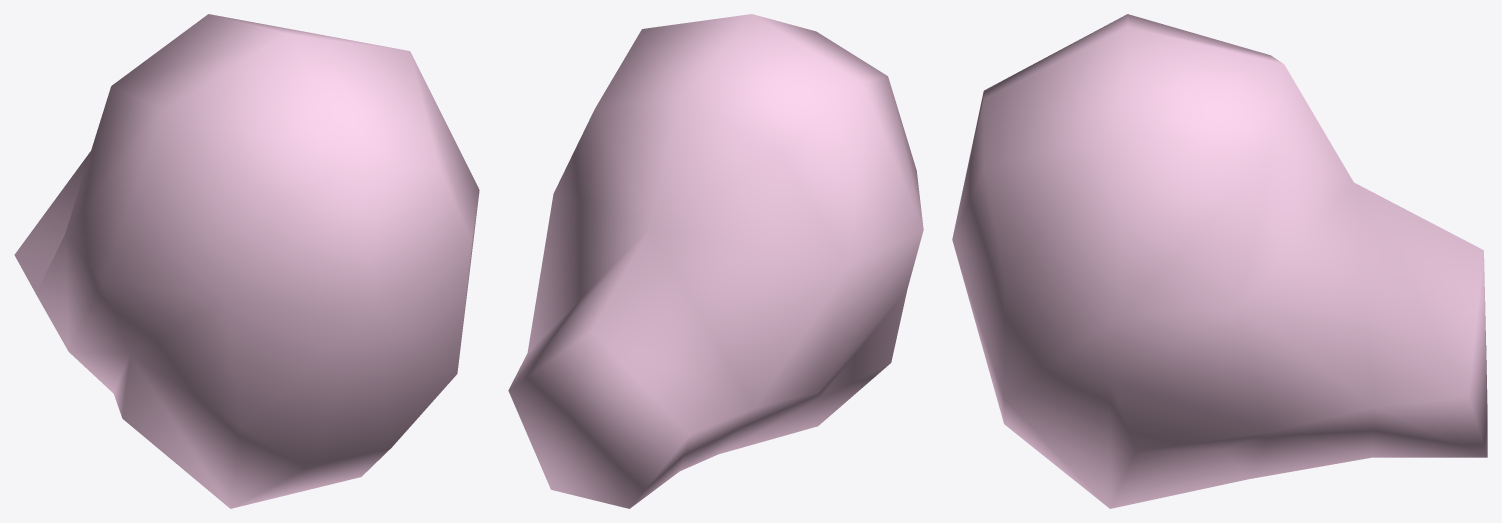
3 views of the same model, side by side, from view 1: azimuth 30°, elevation 25°; view 2: azimuth 150°, elevation 25°; view 3: azimuth 270°, elevation 25° (orthographic). The views are drawn at different scales.
Parts seen in each view (by area): view 1: Object71; view 2: Object71; view 3: Object71.
Boxes of the visible parts, left/top/right/bottom form: Object71: left=14, top=14, right=479, bottom=508; Object71: left=508, top=14, right=923, bottom=508; Object71: left=952, top=14, right=1487, bottom=508.
Bounding box in the file's own units: 3089 × 3541 × 3819.
